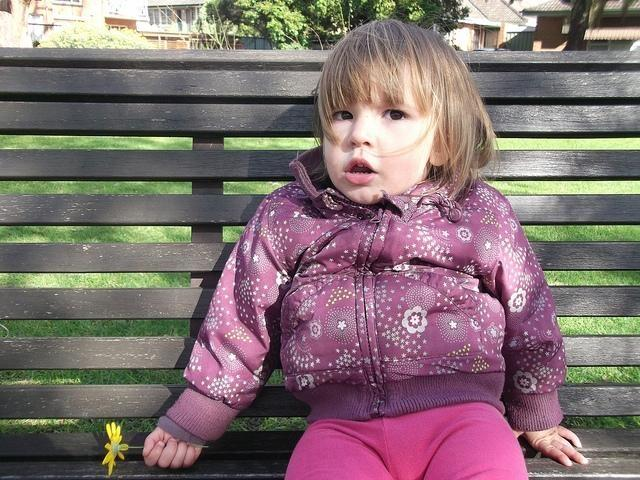car: (471, 48, 512, 50)
